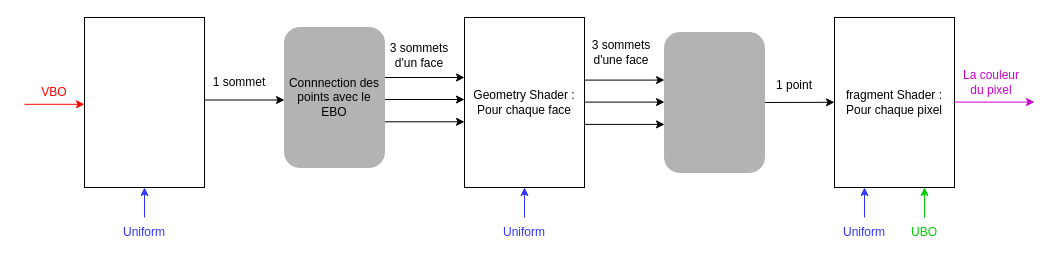
Image size: 1060x265. Some labels were removed from this diagram. The centre of each missing label's shape, as x and y in pixels:
"Rasterisation : interpolation des 3 sommets vers un point de la face" goes at pixel 714 102.
"Vertex Shader : Pour chaque sommet" goes at pixel 144 102.
